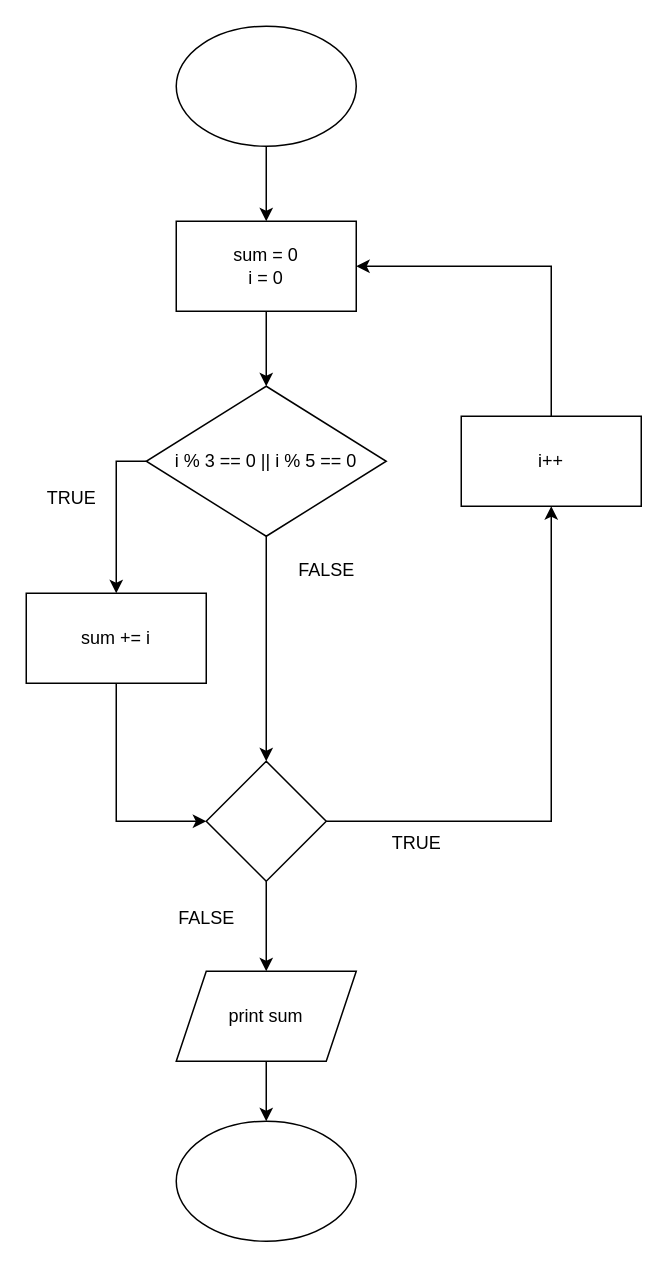
The diagram is 668 pixels wide and 1268 high, and some of its shapes have lost their labels. The centre of each missing label's shape, as x and y in pixels:
"exit" goes at point 265,1180.
"i<1000" goes at point 265,820.
"start" goes at point 265,85.
